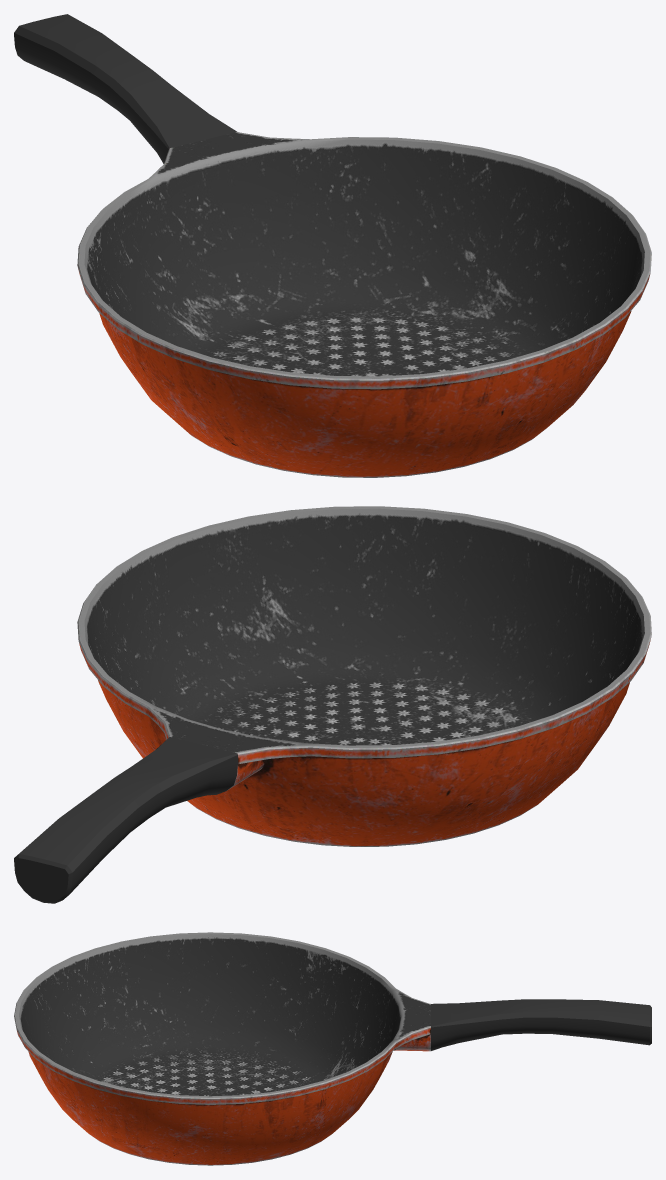
Rendered from frying_pan.glb.
The picture shows the model from 3 angles, top to bottom: view 1: azimuth 30°, elevation 25°; view 2: azimuth 150°, elevation 25°; view 3: azimuth 270°, elevation 25°; orthographic projection. The views are drawn at different scales.
Visible parts, largest first — view 1: Object_3; view 2: Object_3; view 3: Object_3.
Part boxes in pixels (bbox=[...]): Object_3: bbox=[14, 14, 651, 477]; Object_3: bbox=[14, 506, 651, 903]; Object_3: bbox=[14, 932, 651, 1165].
Size of the model in its own units: 30.25 by 8.74 by 49.07.
1 material, 1 textured.
